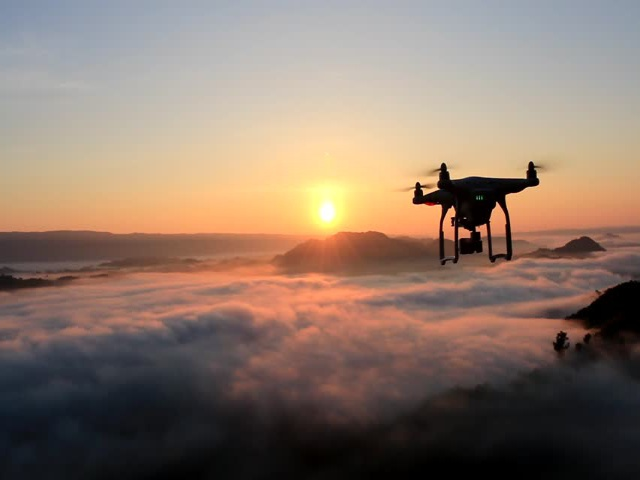drone: (388, 156, 557, 272)
